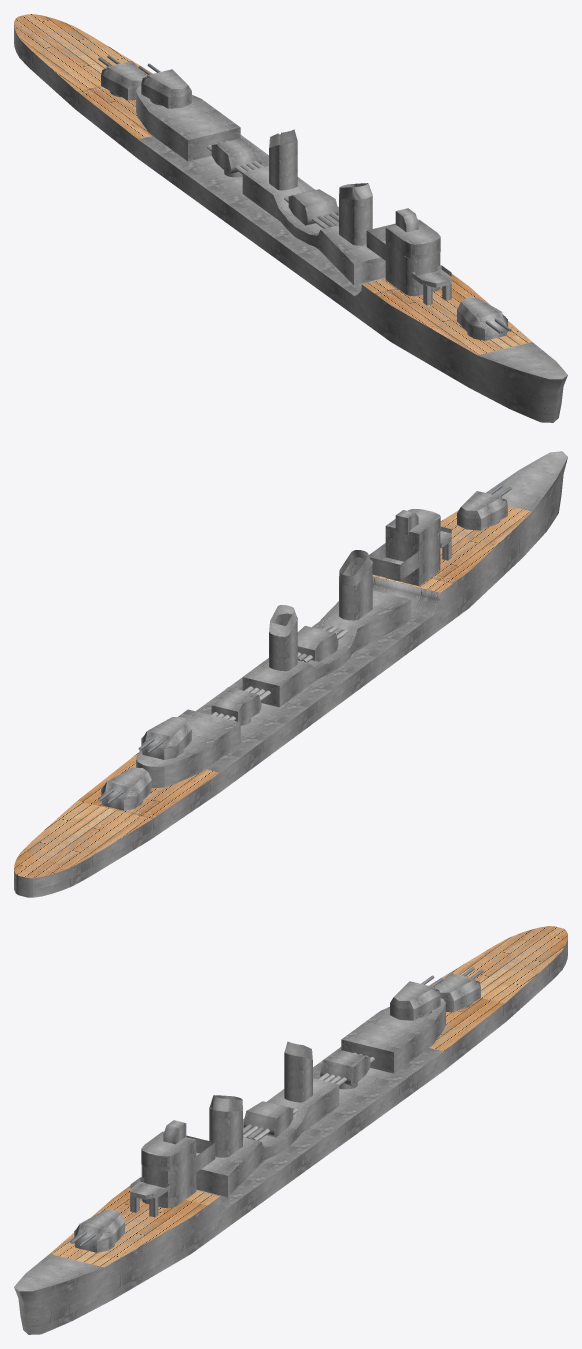
The model's file is Kagero.fbx.
The picture shows the model from 3 angles, top to bottom: view 1: azimuth 30°, elevation 25°; view 2: azimuth 150°, elevation 25°; view 3: azimuth 330°, elevation 25°; orthographic projection.
Parts seen in each view (by area): view 1: pCube25; view 2: pCube25; view 3: pCube25.
Boxes of the visible parts, bbox=[...] form: pCube25: bbox=[14, 14, 567, 422]; pCube25: bbox=[14, 451, 567, 897]; pCube25: bbox=[14, 926, 567, 1334].
Size of the model in its own units: 1.04 by 1.24 by 11.85.
4 materials, 3 textured.
